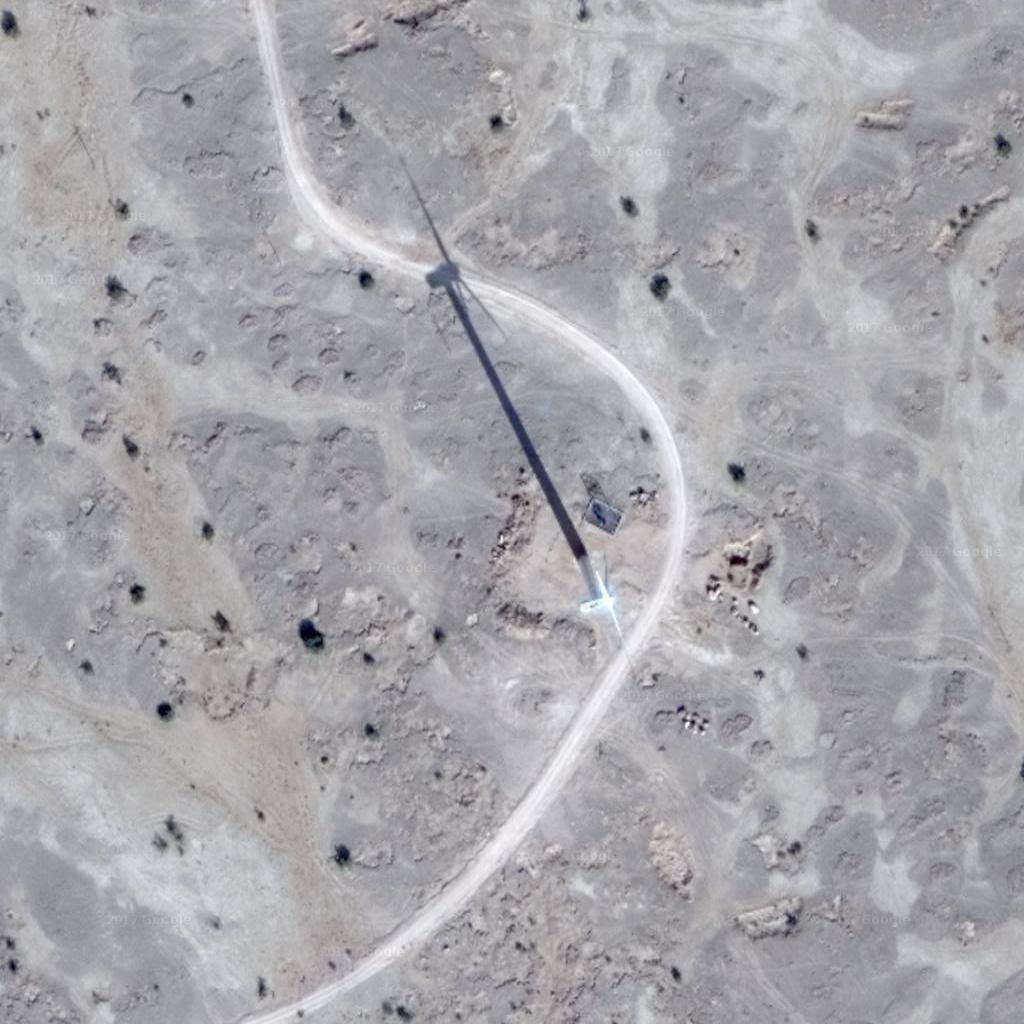Windmill: (380, 164, 605, 549)
